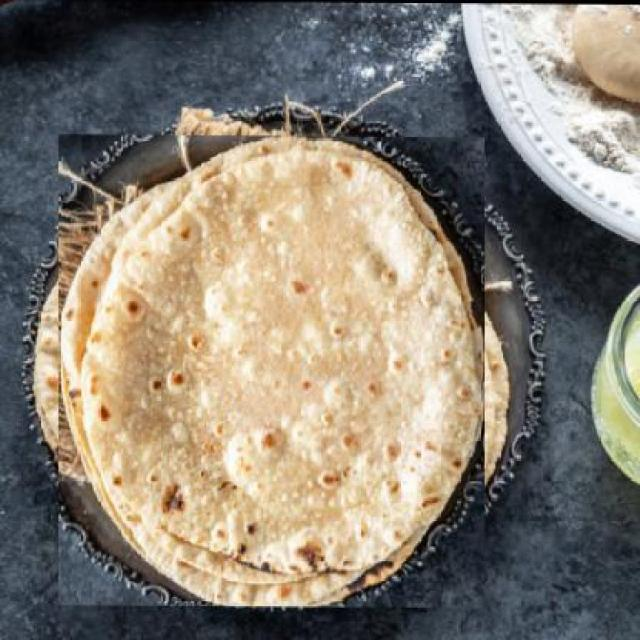chapati: (47, 144, 498, 598)
